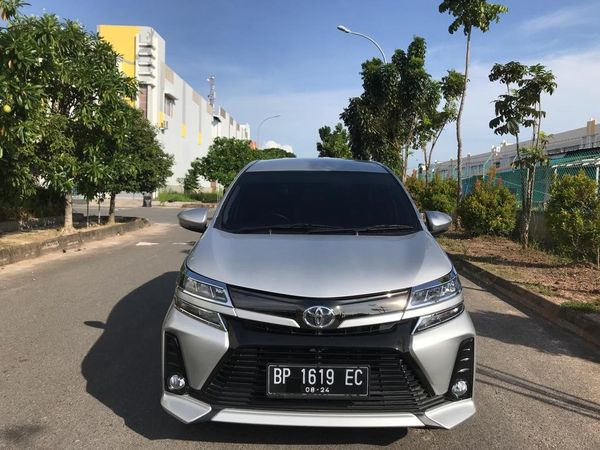plate: (267, 364, 373, 400)
